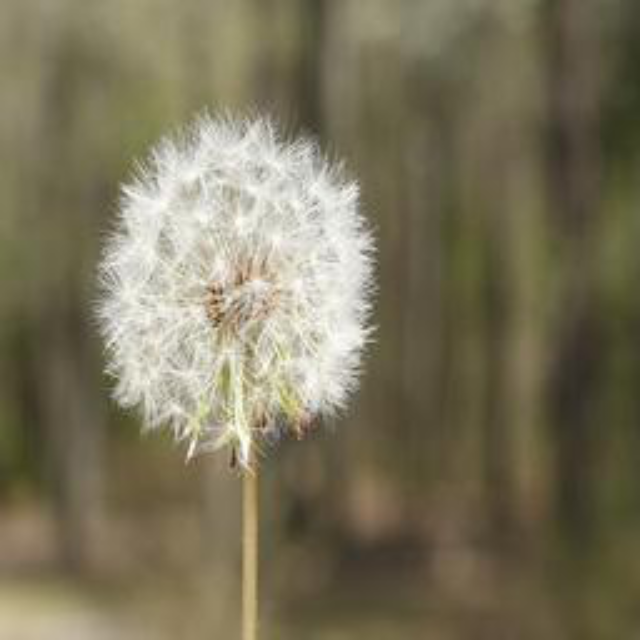dandelion: (85, 97, 385, 473)
